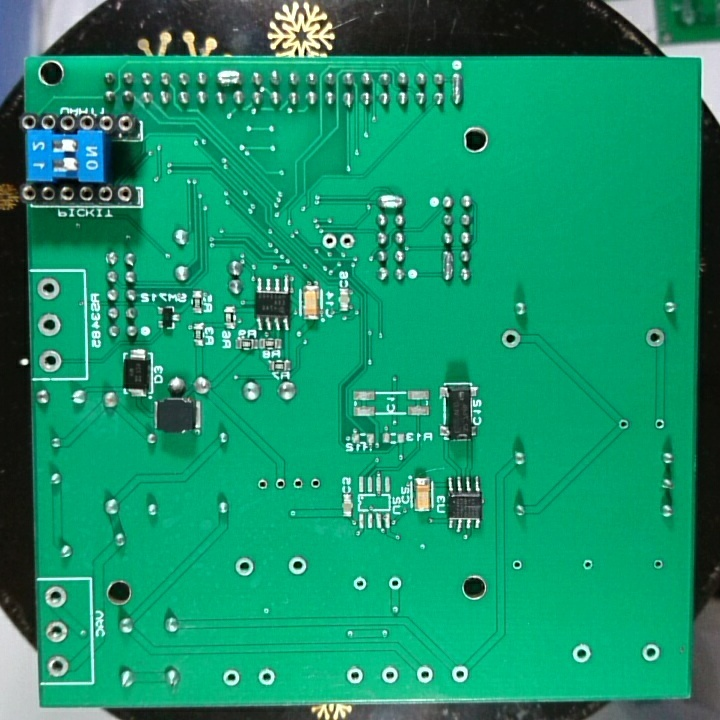F: (34, 275, 62, 302), (37, 347, 64, 375), (42, 583, 69, 611), (36, 312, 63, 338), (44, 618, 70, 645), (45, 653, 71, 678), (568, 641, 594, 666), (642, 325, 666, 350), (639, 640, 662, 666), (498, 326, 521, 352), (232, 555, 257, 578), (285, 555, 308, 578), (414, 663, 437, 686), (379, 664, 401, 686), (221, 667, 242, 689), (344, 664, 365, 686), (449, 663, 471, 684), (257, 665, 277, 686), (349, 573, 369, 593), (338, 231, 357, 252), (385, 573, 404, 592), (320, 232, 339, 250), (290, 473, 305, 495), (579, 556, 597, 574), (273, 474, 288, 494), (650, 555, 665, 575), (614, 417, 631, 434), (651, 416, 667, 434), (255, 475, 270, 494), (509, 558, 525, 573), (308, 474, 322, 491)
P: (214, 67, 243, 87), (375, 193, 407, 210), (449, 72, 465, 106), (440, 249, 455, 282)
